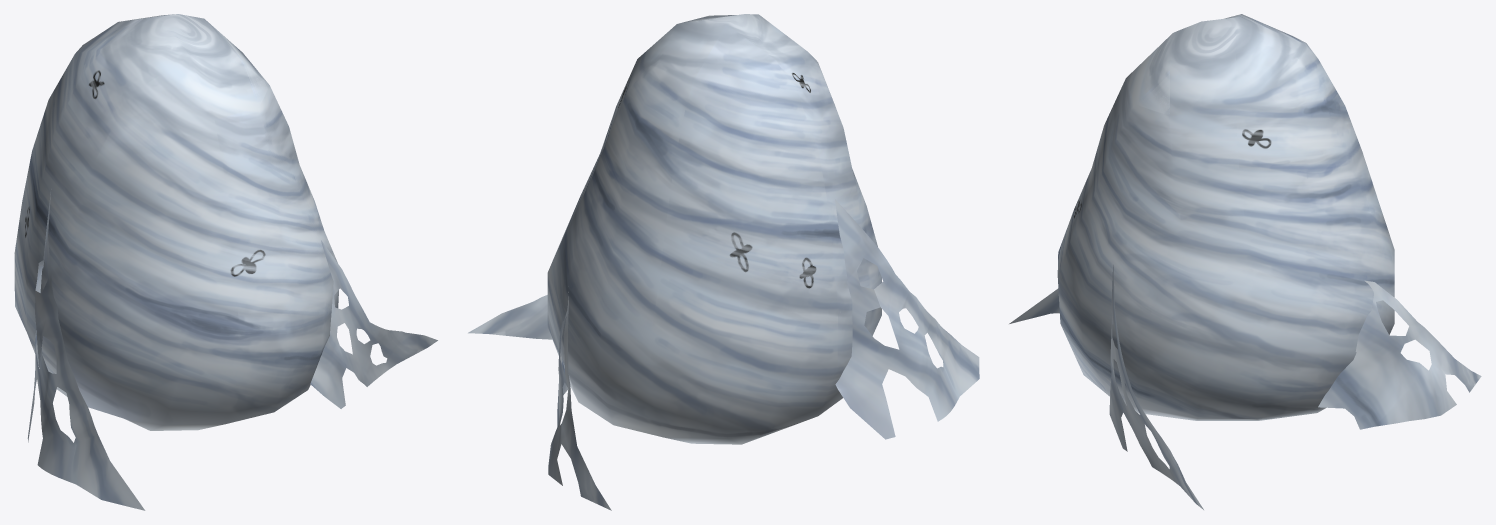
Rendered from cocoon.fbx.
3 views of the same model, side by side, from view 1: azimuth 30°, elevation 25°; view 2: azimuth 150°, elevation 25°; view 3: azimuth 270°, elevation 25° (orthographic). The views are drawn at different scales.
Visible parts, largest first — view 1: cocoon, webs, webs.001; view 2: cocoon, webs, webs.001; view 3: cocoon, webs, webs.001.
Part boxes in pixels (box(x1,y1,x2,y2)): cocoon: box(14, 14, 338, 430); webs: box(27, 189, 437, 510); webs.001: box(28, 203, 436, 509); cocoon: box(547, 14, 881, 444); webs: box(468, 199, 979, 510); webs.001: box(468, 203, 979, 508); cocoon: box(1057, 14, 1394, 420); webs: box(1009, 265, 1481, 509); webs.001: box(1013, 276, 1479, 505).
Size of the model in its own units: 373 by 316 by 366.
Materials: 1 (1 with a texture image).
